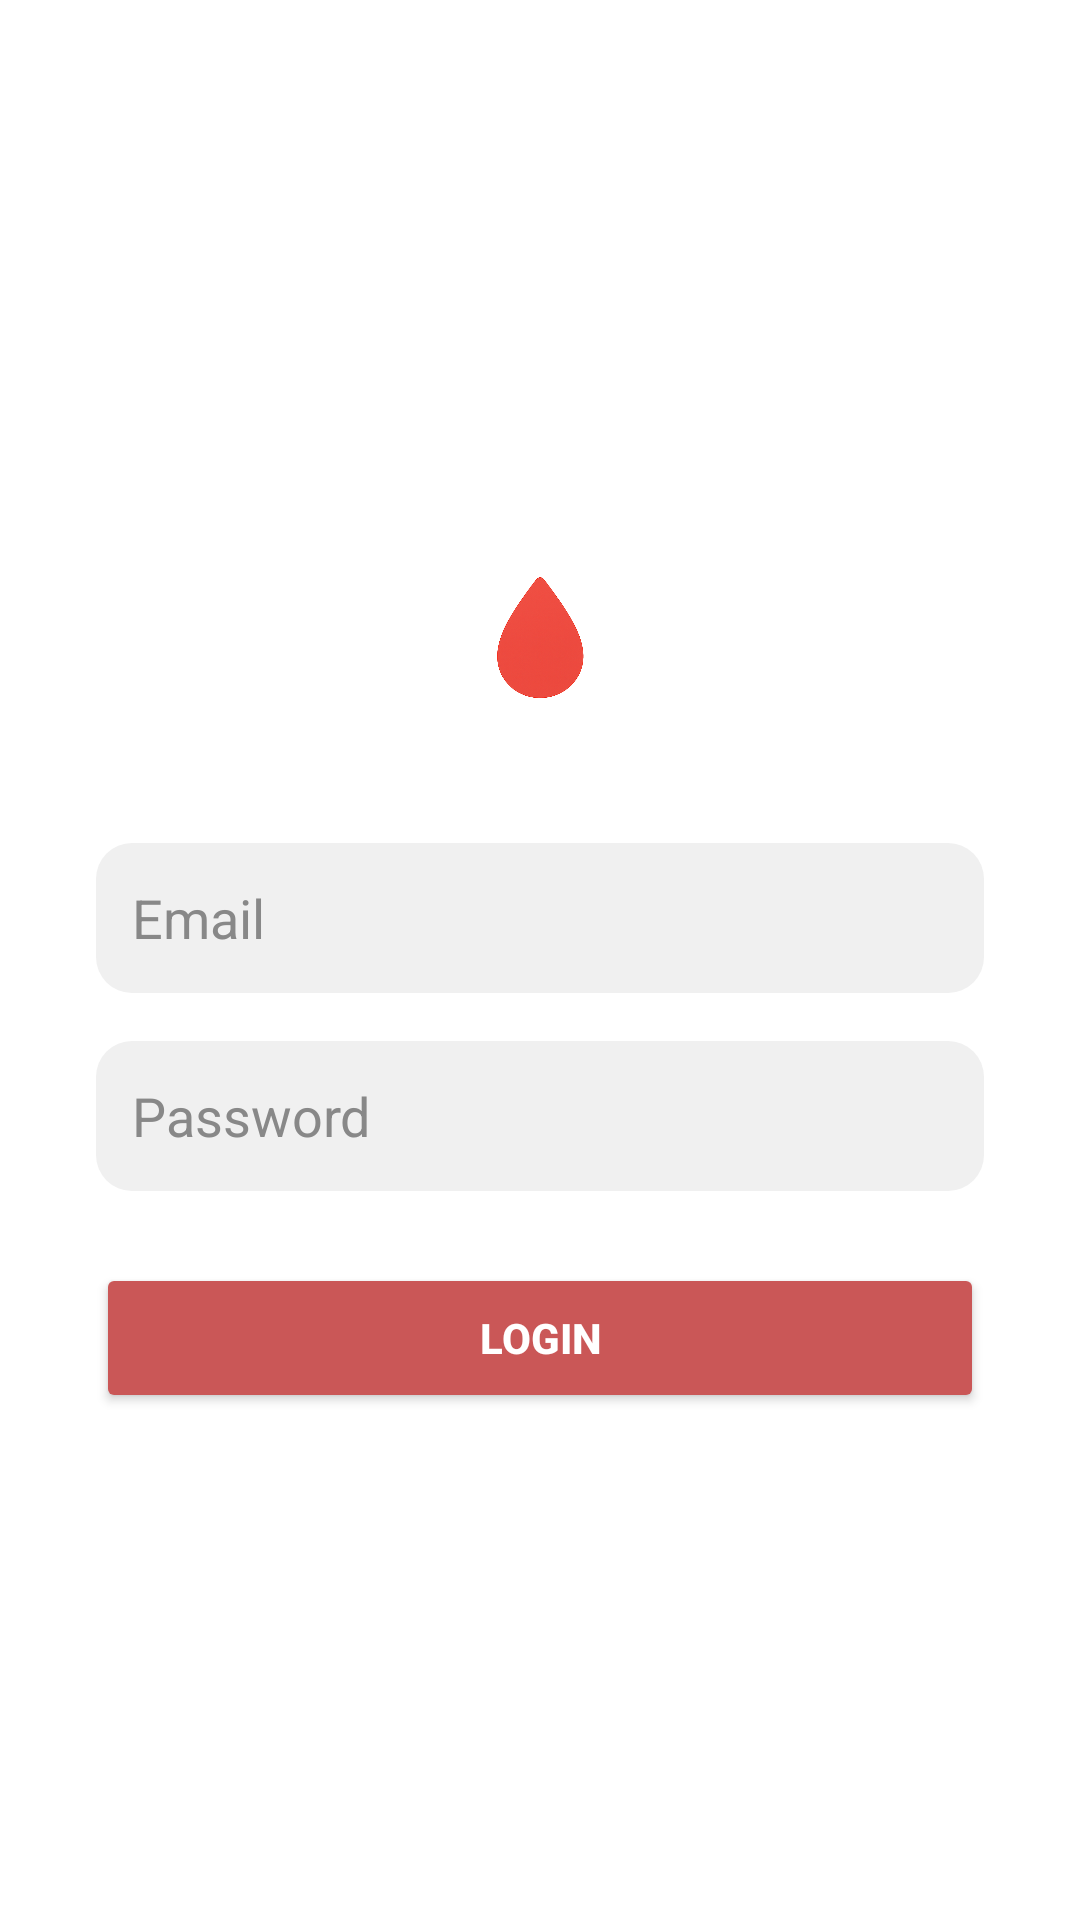

Locate icon controls on the screen. Image size 1080 x 1920, boxes as bbox=[x1, y1, x2, y2].
drop icon: bbox=[497, 577, 584, 698]
